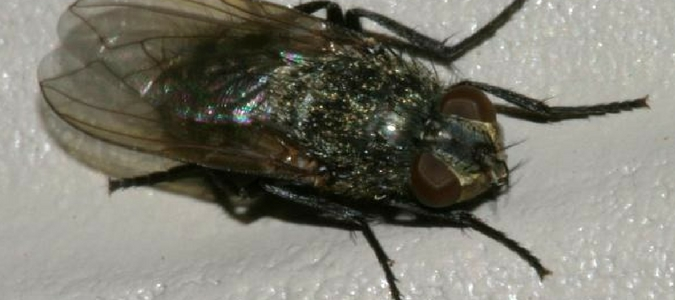house fly: (36, 1, 653, 298)
